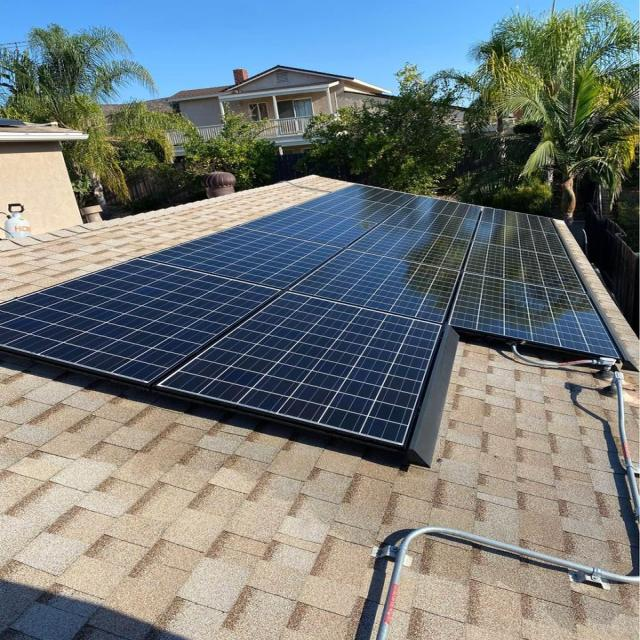clean-solar-panel: (2, 185, 618, 461)
